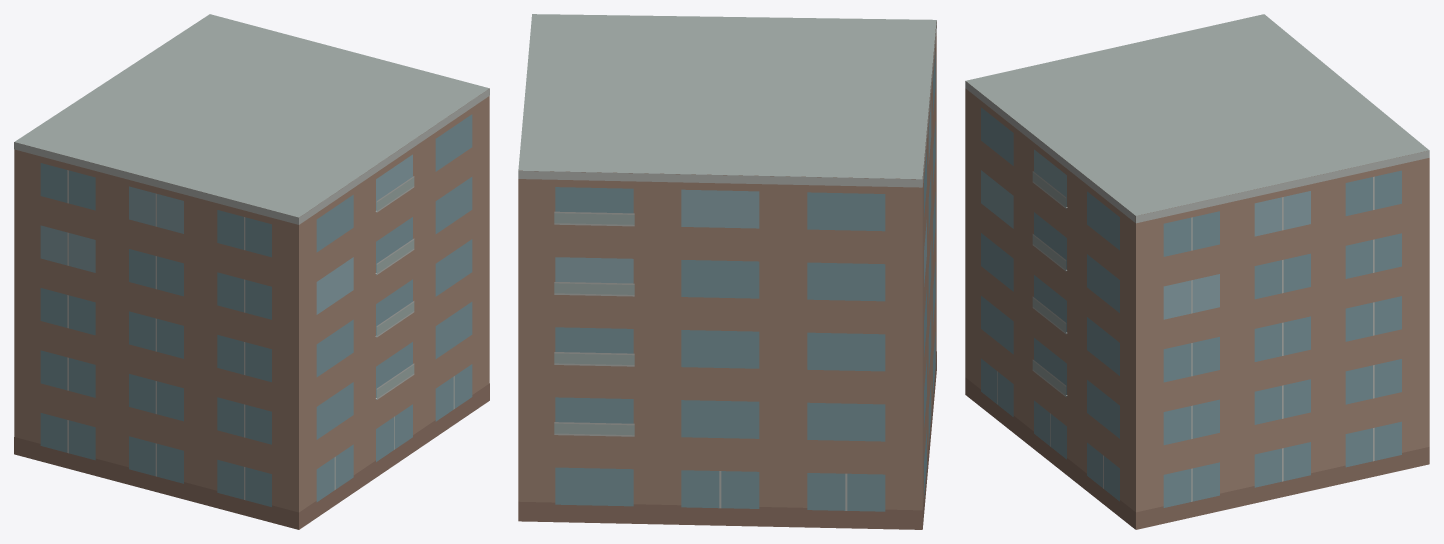
Rendered from survey-upis-32744223.glb.
The picture shows the model from 3 angles, left to right: view 1: azimuth 30°, elevation 25°; view 2: azimuth 150°, elevation 25°; view 3: azimuth 270°, elevation 25°; orthographic projection. The views are drawn at different scales.
Parts seen in each view (by area): view 1: survey-upis-32744223.tmp; view 2: survey-upis-32744223.tmp; view 3: survey-upis-32744223.tmp.
Boxes of the visible parts, box(x1,y1,x2,y2) form: survey-upis-32744223.tmp: box(14, 14, 489, 529); survey-upis-32744223.tmp: box(518, 14, 936, 529); survey-upis-32744223.tmp: box(965, 14, 1429, 529).
Bounding box in the file's own units: 14.22 × 10.3 × 13.81.
